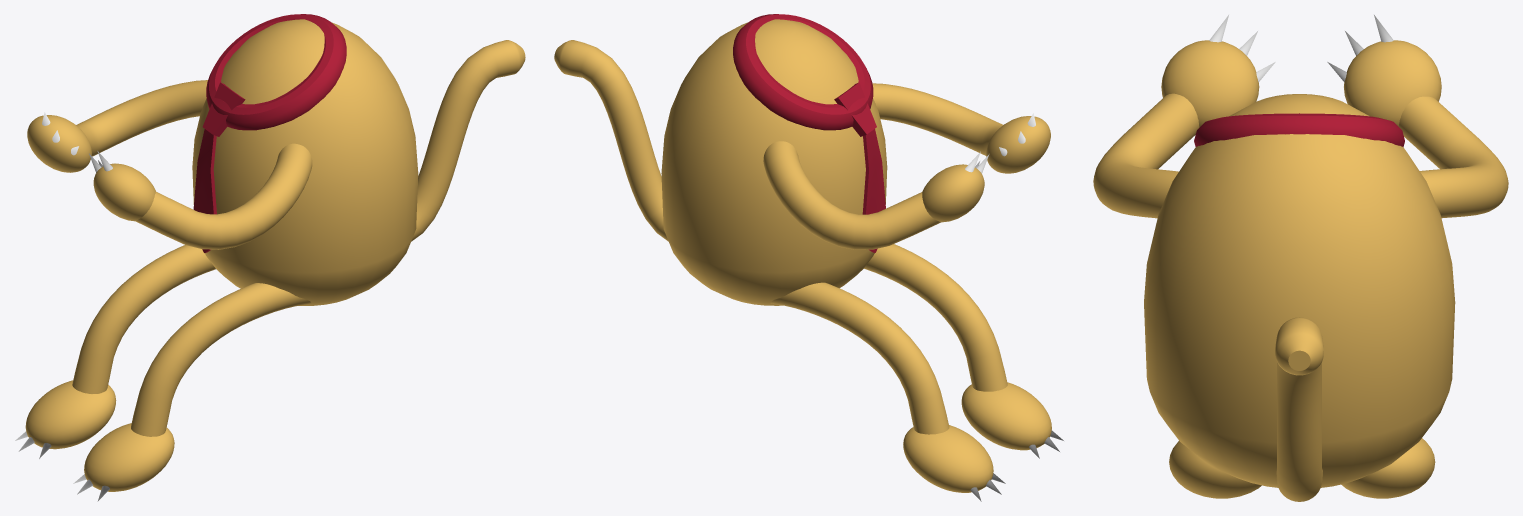
The model's file is YellowCatBody.glb.
The picture shows the model from 3 angles, left to right: view 1: azimuth 30°, elevation 25°; view 2: azimuth 150°, elevation 25°; view 3: azimuth 270°, elevation 25°; orthographic projection. The views are drawn at different scales.
Visible parts, largest first — view 1: Sphere, Cylinder.014, Cylinder.009, Cylinder.010, Cylinder.013, Torus, Cylinder.015, Sphere.011, Sphere.010, Sphere.012, Sphere.013, Cube.003 (+1 smaller); view 2: Sphere, Cylinder.013, Cylinder.015, Cylinder.010, Cylinder.014, Torus, Cylinder.009, Sphere.011, Sphere.010, Sphere.013, Sphere.012, Cube.003 (+1 smaller); view 3: Sphere, Cylinder.010, Cylinder.015, Cylinder.009, Sphere.012, Sphere.013, Torus, Sphere.010, Sphere.011.
Part boxes in pixels (<box>): Sphere: <box>192,19,418,305</box>; Cylinder.014: <box>131,283,311,436</box>; Cylinder.009: <box>135,143,312,249</box>; Cylinder.010: <box>411,40,525,241</box>; Cylinder.013: <box>72,245,215,393</box>; Torus: <box>206,14,346,130</box>; Cylinder.015: <box>76,80,207,156</box>; Sphere.011: <box>84,423,174,491</box>; Sphere.010: <box>25,380,116,449</box>; Sphere.012: <box>27,115,91,172</box>; Sphere.013: <box>93,163,155,221</box>; Cube.003: <box>193,129,216,252</box>; Sphere: <box>661,19,887,305</box>; Cylinder.013: <box>770,282,949,434</box>; Cylinder.015: <box>763,141,941,249</box>; Cylinder.010: <box>554,40,668,241</box>; Cylinder.014: <box>864,244,1007,391</box>; Torus: <box>733,14,873,130</box>; Cylinder.009: <box>872,83,1002,155</box>; Sphere.011: <box>961,382,1051,450</box>; Sphere.010: <box>903,425,993,492</box>; Sphere.013: <box>986,116,1050,173</box>; Sphere.012: <box>922,164,984,222</box>; Cube.003: <box>862,129,885,252</box>; Sphere: <box>1144,94,1455,487</box>; Cylinder.010: <box>1275,317,1323,501</box>; Cylinder.015: <box>1399,96,1508,218</box>; Cylinder.009: <box>1093,93,1199,218</box>; Sphere.012: <box>1344,40,1441,126</box>; Sphere.013: <box>1161,40,1259,127</box>; Torus: <box>1194,113,1404,146</box>; Sphere.010: <box>1341,438,1435,498</box>; Sphere.011: <box>1169,441,1261,498</box>.
Size of the model in its own units: 1.54 by 1.21 by 0.852.
